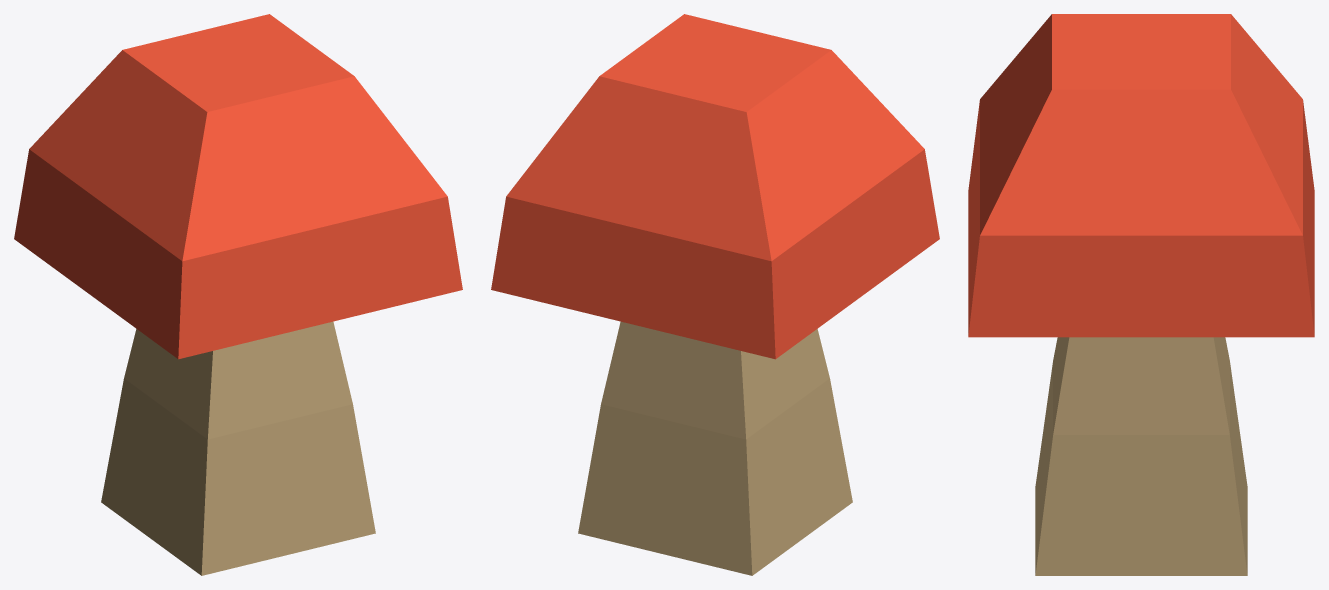
The model's file is ForestMushroom01.fbx.
3 views of the same model, side by side, from view 1: azimuth 30°, elevation 25°; view 2: azimuth 150°, elevation 25°; view 3: azimuth 270°, elevation 25° (orthographic). The views are drawn at different scales.
Parts seen in each view (by area): view 1: ForestMushroom01; view 2: ForestMushroom01; view 3: ForestMushroom01.
Part boxes in pixels (x1,y1,x2,y2): ForestMushroom01: [14, 14, 462, 575]; ForestMushroom01: [491, 14, 939, 575]; ForestMushroom01: [968, 14, 1314, 575].
Size of the model in its own units: 4.24 by 6.47 by 4.24.
